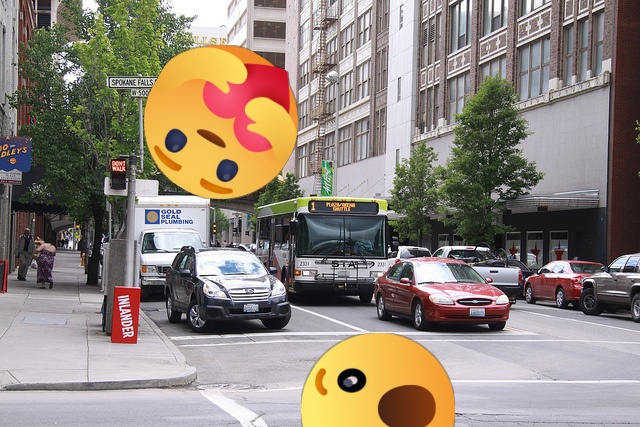care: (144, 45, 298, 199)
wow: (301, 333, 455, 427)
